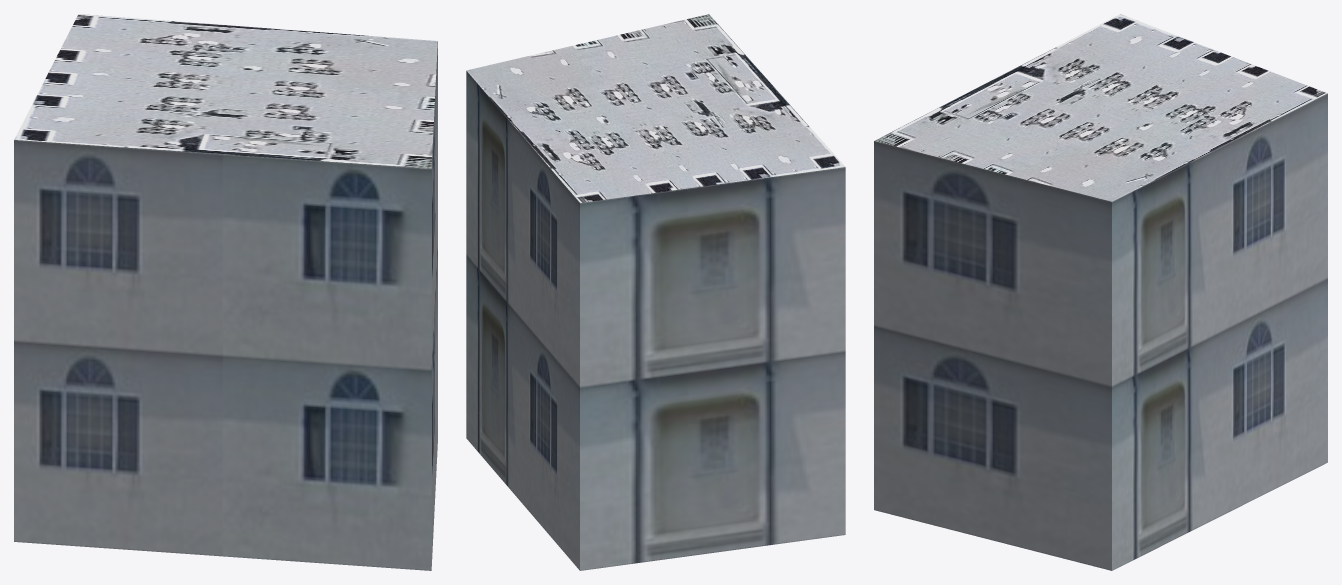
The model's file is ResTex__3881.fbx.
3 renders of one model, left to right at view 1: azimuth 30°, elevation 25°; view 2: azimuth 150°, elevation 25°; view 3: azimuth 270°, elevation 25°, orthographic. The views are drawn at different scales.
Visible parts, largest first — view 1: CityEngineMaterial_17_m, CityEngineMaterial_m; view 2: CityEngineMaterial_17_m, CityEngineMaterial_m; view 3: CityEngineMaterial_17_m, CityEngineMaterial_m.
Boxes of the visible parts, x1=… form: CityEngineMaterial_17_m: x1=14, y1=42, x2=437, y2=570; CityEngineMaterial_m: x1=14, y1=14, x2=437, y2=168; CityEngineMaterial_17_m: x1=466, y1=71, x2=845, y2=570; CityEngineMaterial_m: x1=466, y1=14, x2=844, y2=202; CityEngineMaterial_17_m: x1=874, y1=93, x2=1327, y2=570; CityEngineMaterial_m: x1=874, y1=14, x2=1327, y2=201.
Size of the model in its own units: 6.55 by 6 by 6.68.
2 materials, 2 textured.
